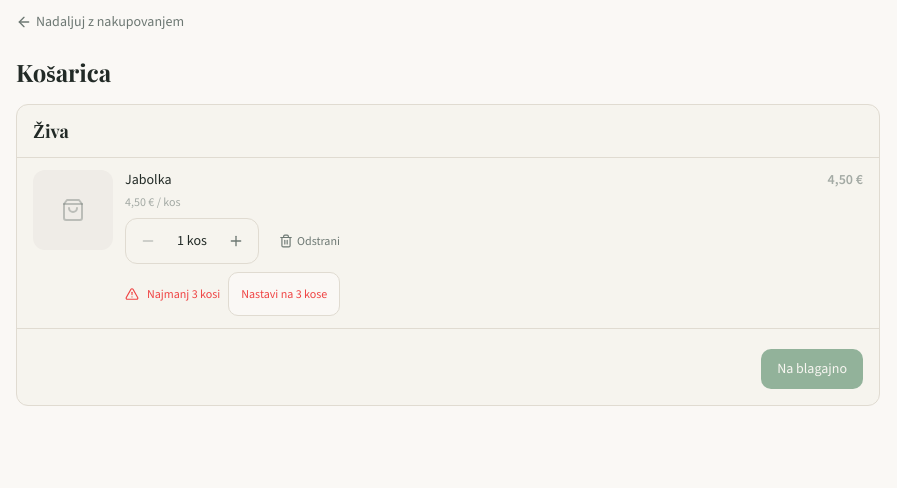
Test: CartPage › only the minimum is the problem (no upper limit: max null) → "Najmanj 3 kose" with a one-click fix, not "Ni več na voljo"
The width and height of the screenshot is (897, 488).
Click the button "Nastavi na 3 kose" at (284, 294), box [228, 272, 340, 316]
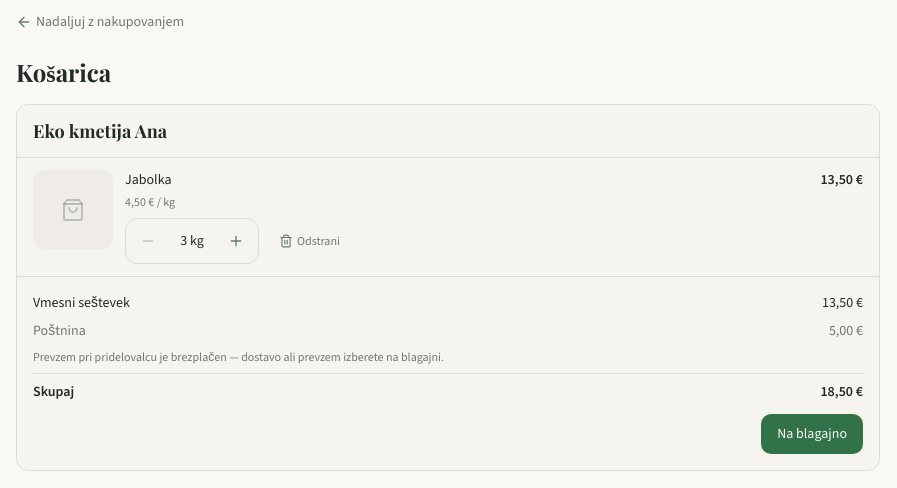
Result: the message with test id "line-problem" is gone
